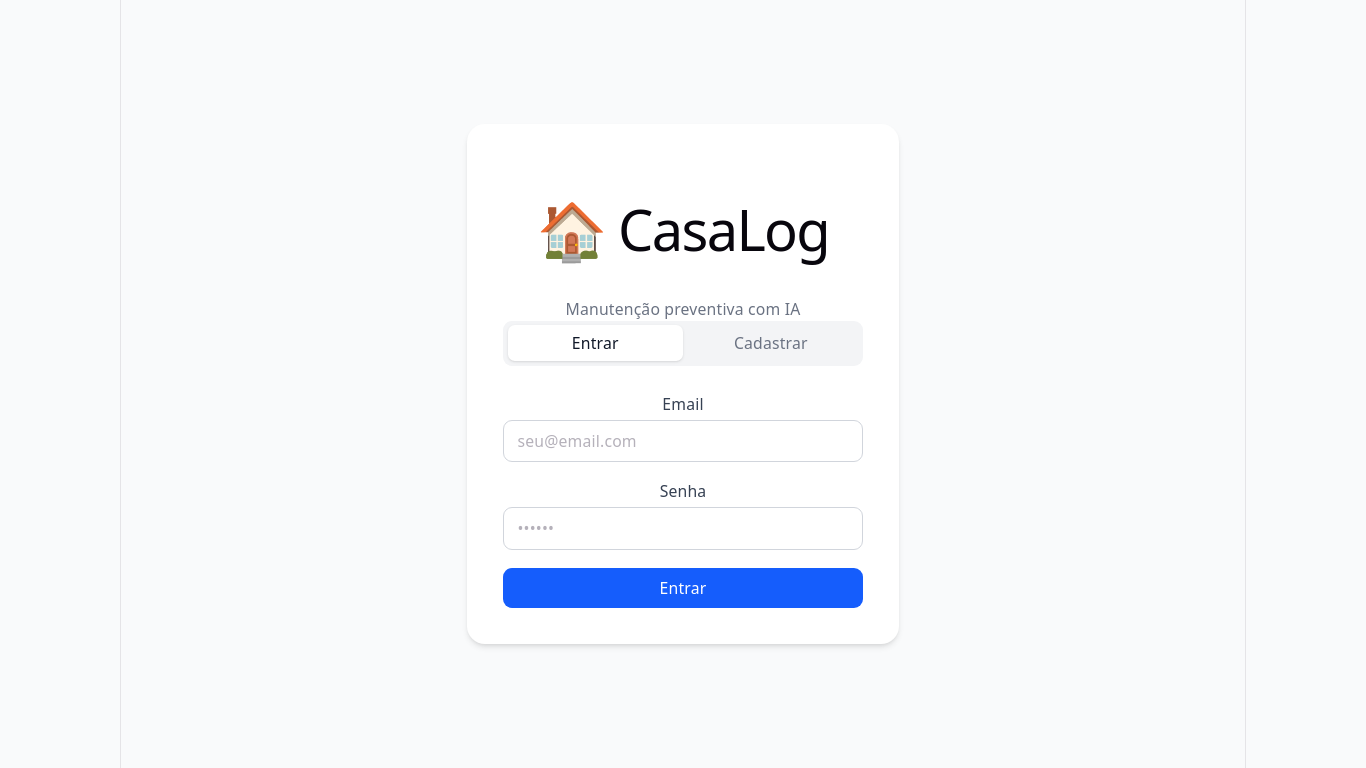
AuthForm › toggles to register mode
Click the button "Cadastrar" at (771, 343), box [683, 325, 858, 361]
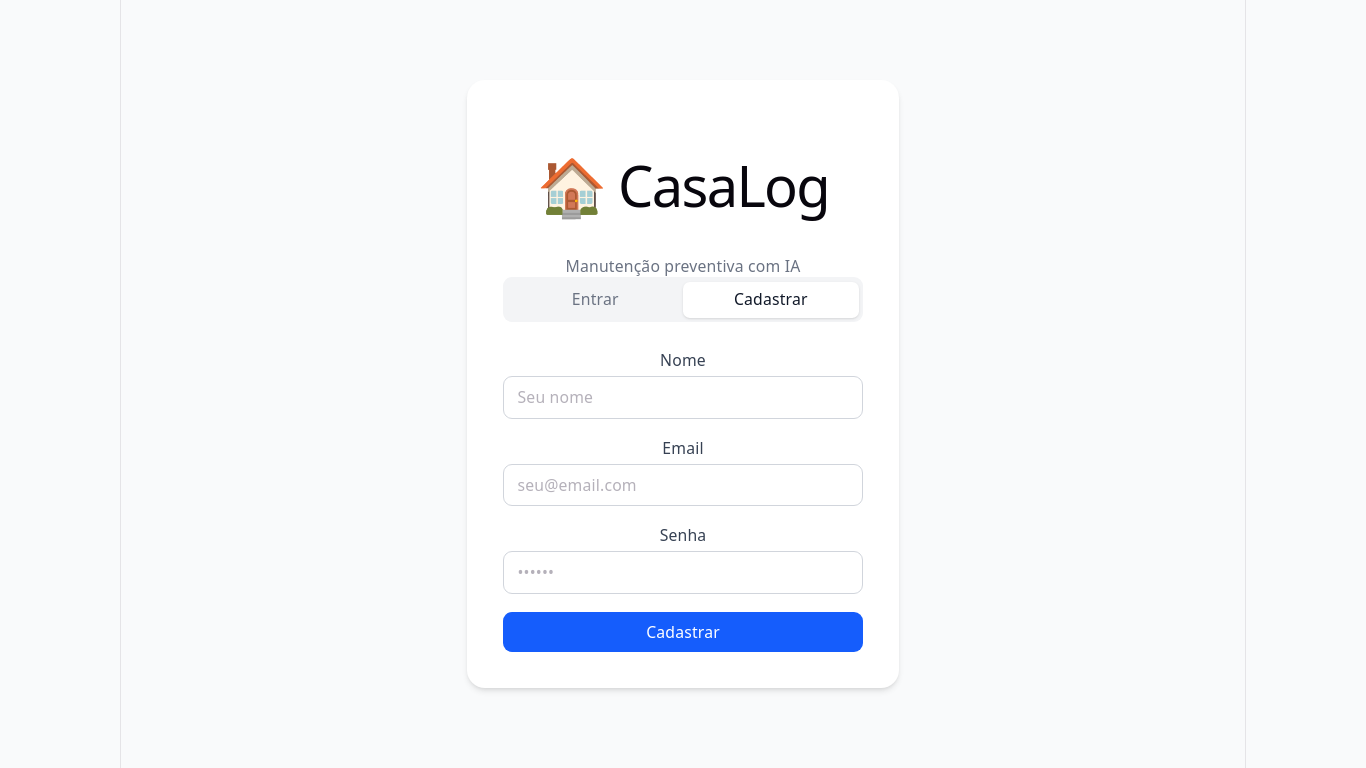
Result: the field with placeholder "Seu nome" is shown at [503, 376, 863, 419]
